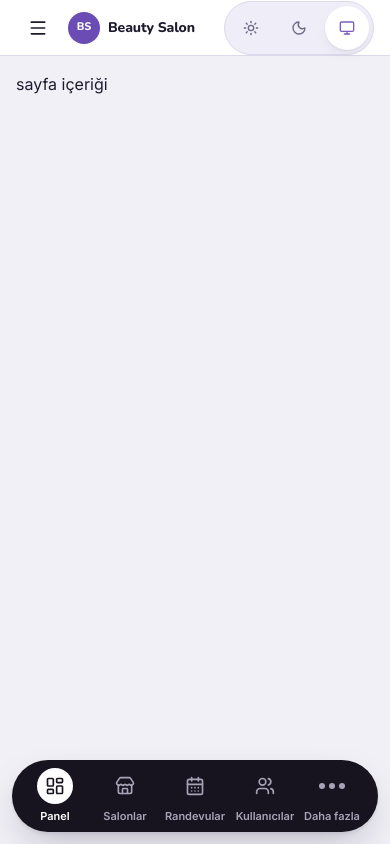
Test: AppShell — panel modu › "Menüyü aç" çekmeceyi açar ve aria-expanded senkronlanır
Step 1. Click the button named "Menüyü aç" → point(38, 28), box [16,6,60,50]
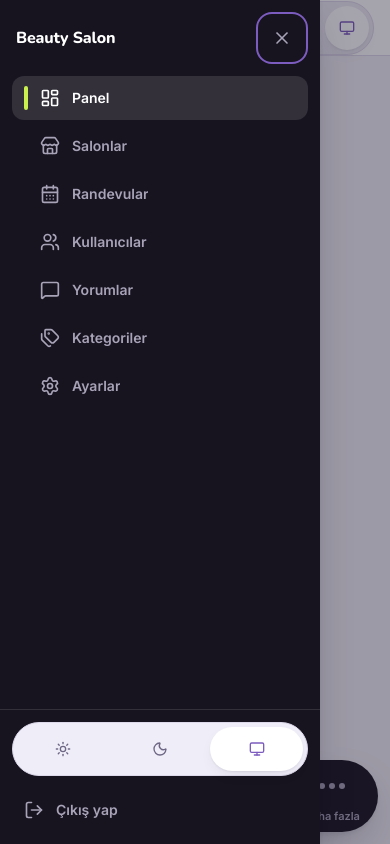
expect the button named "Menüyü aç" is expanded: met, box [16,6,60,50]
expect the dialog named "Gezinme menüsü" is shown: met
